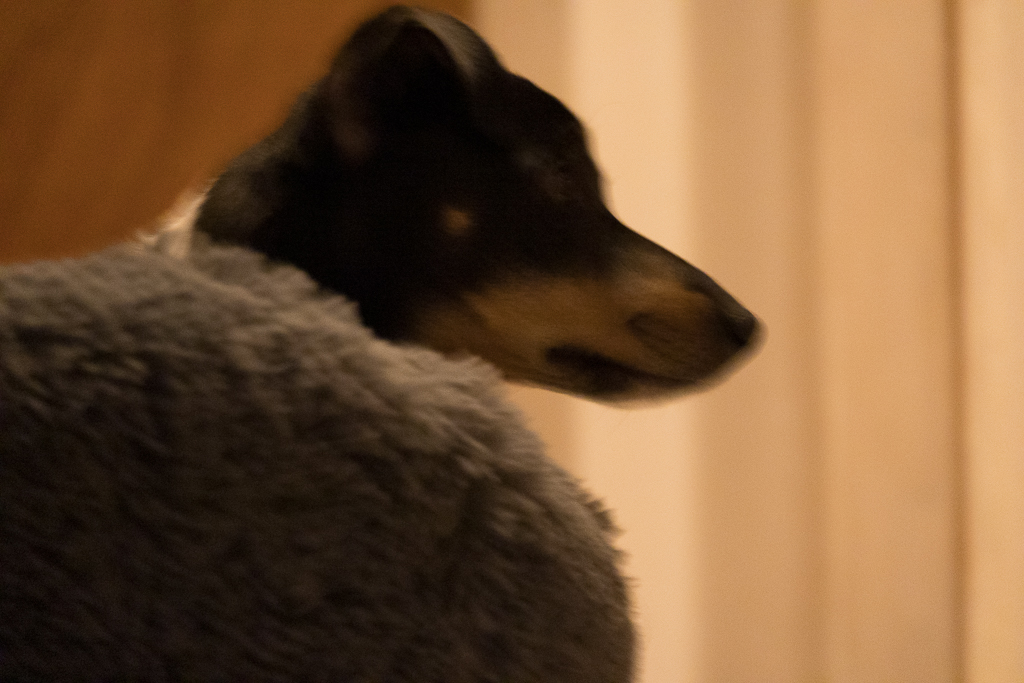Dog: (115, 0, 778, 418)
